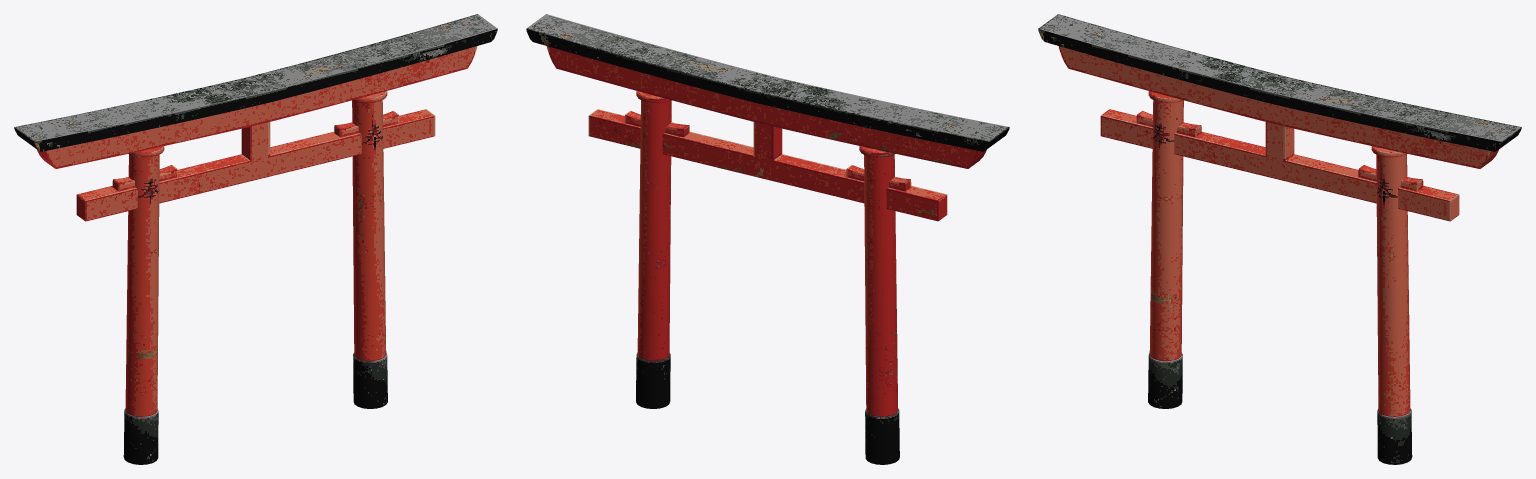
File: sv_torii.glb
3 renders of one model, left to right at view 1: azimuth 30°, elevation 25°; view 2: azimuth 150°, elevation 25°; view 3: azimuth 330°, elevation 25°, orthographic.
Visible parts, largest first — view 1: sv_torii; view 2: sv_torii; view 3: sv_torii.
Part boxes in pixels (x1=…): sv_torii: x1=14, y1=14, x2=497, y2=464; sv_torii: x1=526, y1=14, x2=1009, y2=464; sv_torii: x1=1038, y1=14, x2=1521, y2=464.
Bounding box in the file's own units: 1.63 × 1.18 × 0.1224.
1 material, 1 textured.
